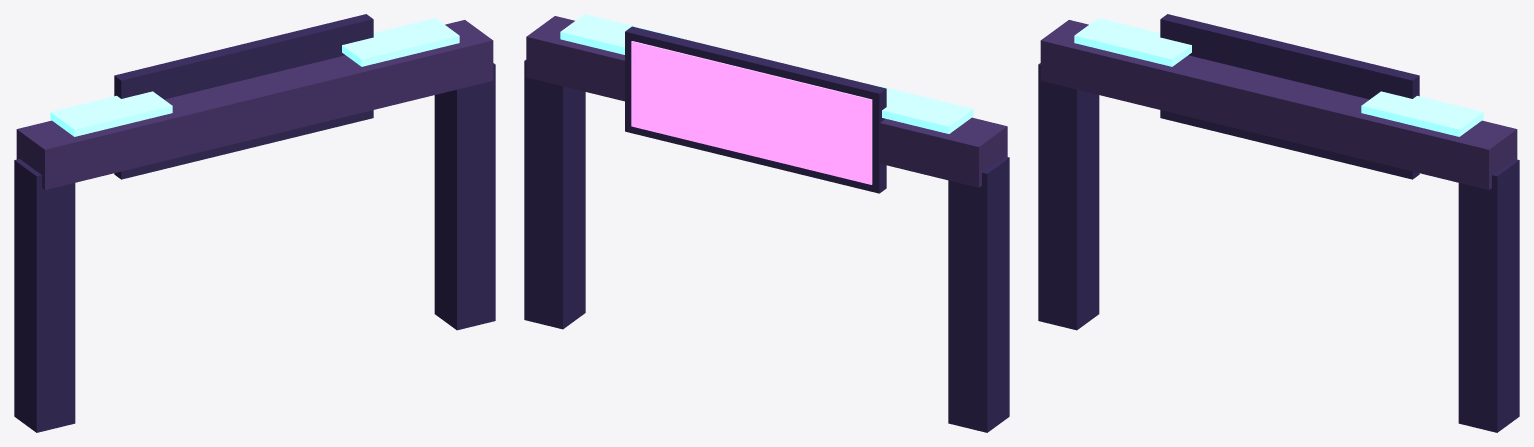
File: 10_billboard_bridge_gantry.glb
3 views of the same model, side by side, from view 1: azimuth 30°, elevation 25°; view 2: azimuth 150°, elevation 25°; view 3: azimuth 330°, elevation 25° (orthographic).
Parts seen in each view (by area): view 1: gantry_2, pillar_left_0, pillar_right_1, billboard_3, trim_left_5, trim_right_6; view 2: billboard_glow_4, pillar_left_0, pillar_right_1, gantry_2, billboard_3, trim_left_5, trim_right_6; view 3: gantry_2, pillar_right_1, pillar_left_0, billboard_3, trim_right_6, trim_left_5.
Part boxes in pixels (x1,y1,x2,y2): gantry_2: [16, 20, 493, 189]; pillar_left_0: [14, 159, 75, 432]; pillar_right_1: [434, 63, 495, 330]; billboard_3: [114, 14, 373, 179]; trim_left_5: [50, 91, 172, 136]; trim_right_6: [342, 18, 459, 66]; billboard_glow_4: [631, 41, 872, 184]; pillar_left_0: [948, 156, 1009, 432]; pillar_right_1: [524, 60, 585, 329]; gantry_2: [526, 16, 1007, 187]; billboard_3: [625, 26, 886, 193]; trim_left_5: [874, 85, 973, 133]; trim_right_6: [560, 14, 683, 54]; gantry_2: [1040, 20, 1517, 189]; pillar_right_1: [1458, 159, 1519, 432]; pillar_left_0: [1038, 63, 1099, 330]; billboard_3: [1160, 14, 1419, 179]; trim_right_6: [1361, 91, 1483, 136]; trim_left_5: [1074, 18, 1191, 66].
Bounding box in the file's own units: 13.1 × 8.55 × 1.46.
